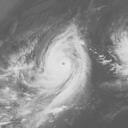cyclone: (29, 24, 93, 106)
